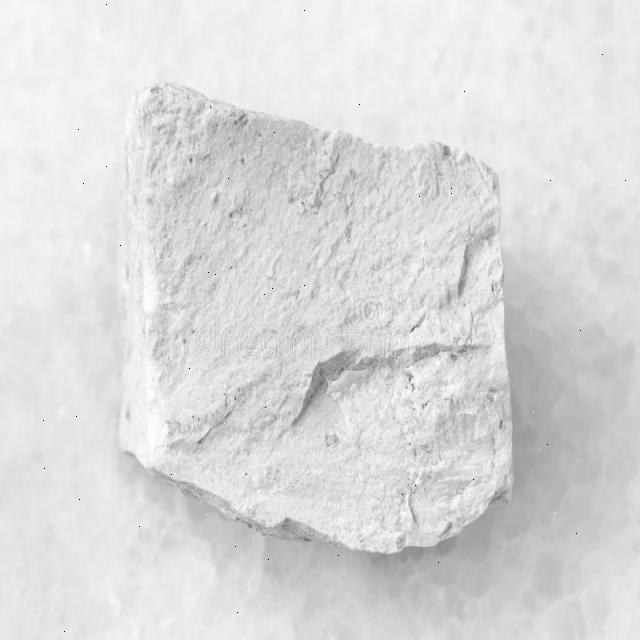Sedimentary: (106, 69, 530, 548)
